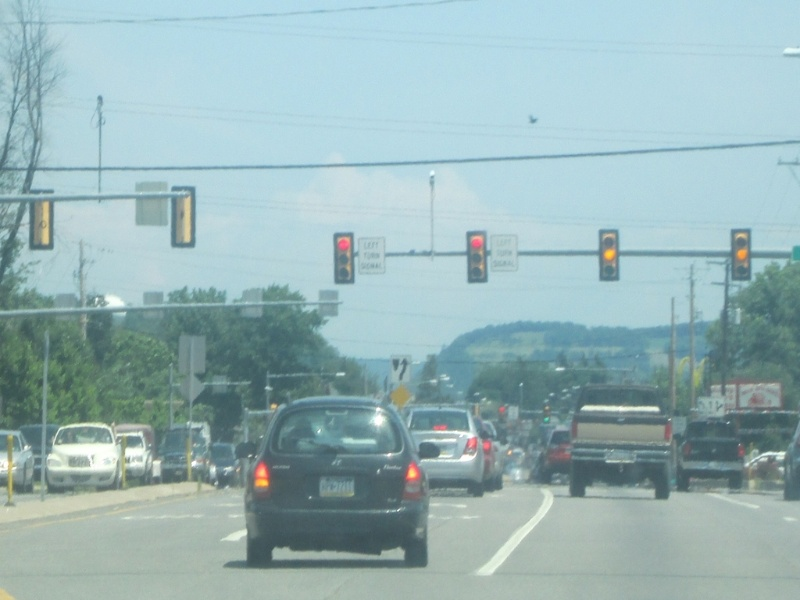red_light: (331, 232, 357, 252), (466, 229, 485, 249)
yellow_light: (729, 244, 750, 262), (601, 247, 619, 263)
